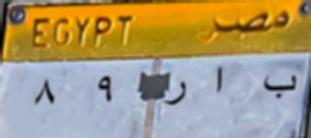8: (30, 75, 57, 110)
9: (93, 71, 115, 109)
alif: (207, 62, 230, 98)
baa: (259, 70, 298, 103)
raa: (162, 79, 190, 111)
